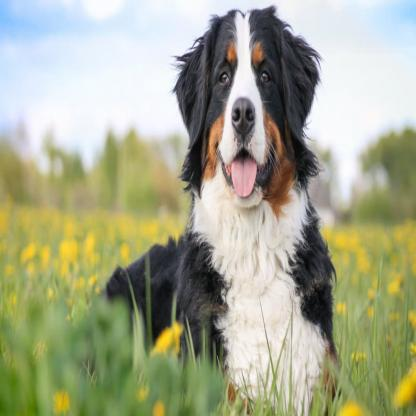Bernese Mountain: (108, 1, 338, 410)
